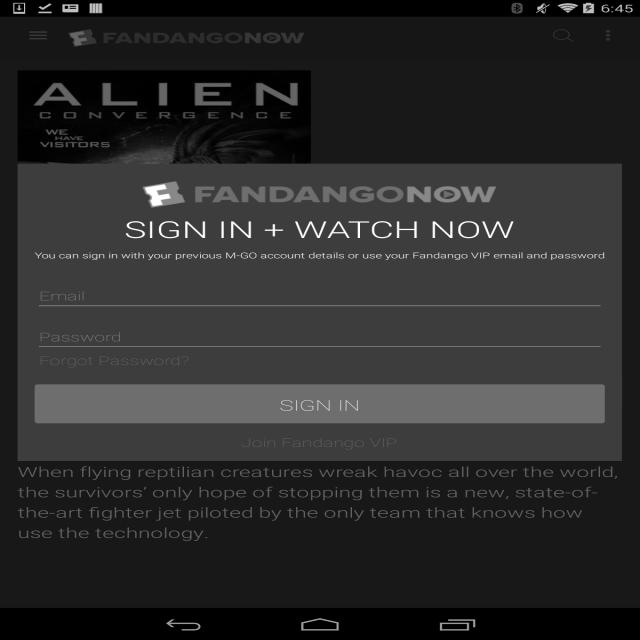Button: (23, 379, 615, 429)
EditText: (31, 284, 600, 312), (31, 325, 608, 351)
ImageButton: (17, 25, 59, 46)
ImageView: (32, 118, 309, 157)
TextView: (16, 466, 613, 553), (115, 215, 518, 247), (34, 81, 308, 108), (188, 183, 519, 204), (101, 29, 317, 49)
